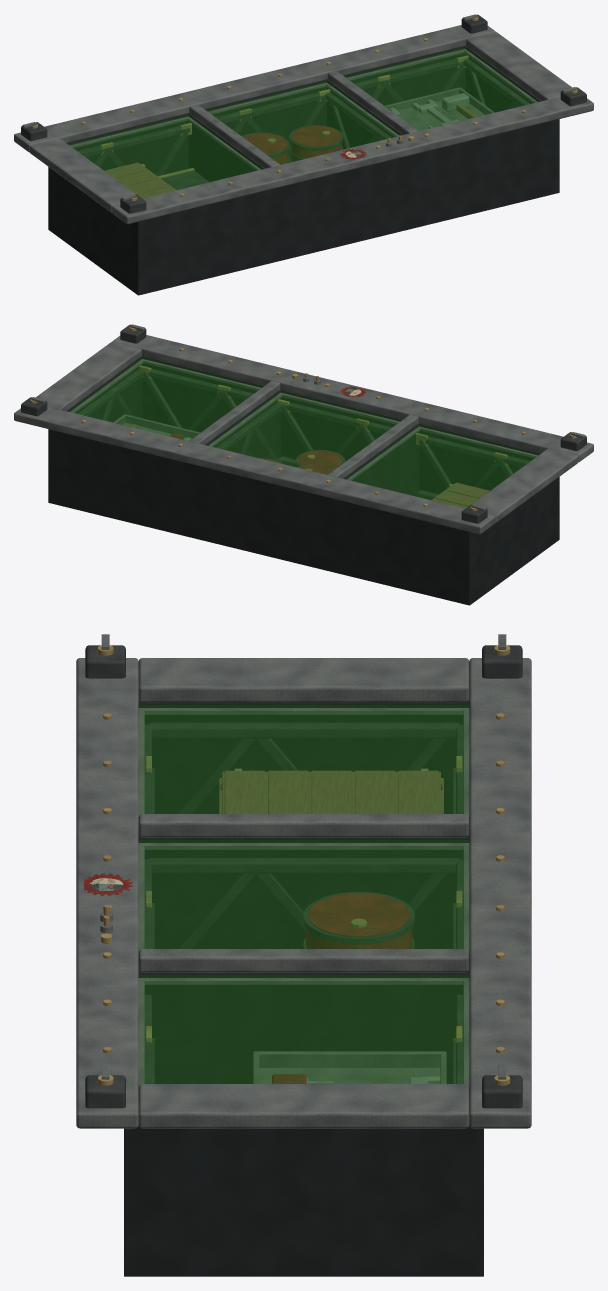
File: basic-space-cargo-v01.glb
3 renders of one model, top to bottom at view 1: azimuth 30°, elevation 25°; view 2: azimuth 150°, elevation 25°; view 3: azimuth 270°, elevation 25°, orthographic. The views are drawn at different scales.
Parts seen in each view (by area): view 1: Cargo | front opaque well baffle, Cargo | front grade-bearing deck rail, Cargo | rear grade-bearing deck rail, Cargo | green transmitting viewport 0, Cargo | green transmitting viewport 1, Cargo | green transmitting viewport 2, Cargo | rear opaque well baffle, Cargo | opaque compartment wall 0, Cargo | sealed suspended well floor, Cargo | left grade-bearing end rail, Cargo | right grade-bearing end rail, Cargo | opaque compartment wall 1 (+23 smaller); view 2: Cargo | rear opaque well baffle, Cargo | front opaque well baffle, Cargo | rear grade-bearing deck rail, Cargo | front grade-bearing deck rail, Cargo | green transmitting viewport 0, Cargo | green transmitting viewport 1, Cargo | green transmitting viewport 2, Cargo | opaque compartment wall 0, Cargo | sealed suspended well floor, Cargo | opaque compartment wall 1, Cargo | left grade-bearing end rail, Cargo | right grade-bearing end rail (+20 smaller); view 3: Cargo | opaque compartment wall 3, Cargo | green transmitting viewport 0, Cargo | green transmitting viewport 1, Cargo | green transmitting viewport 2, Cargo | rear grade-bearing deck rail, Cargo | front grade-bearing deck rail, Cargo | opaque compartment wall 2, Cargo | opaque compartment wall 1, Cargo | opaque compartment wall 0, Cargo | left grade-bearing end rail, Cargo | right grade-bearing end rail, Cargo | pane mullion 0 (+26 smaller).
Part boxes in pixels (bbox=[...]): Cargo | front opaque well baffle: bbox=[134, 121, 551, 289]; Cargo | front grade-bearing deck rail: bbox=[112, 96, 593, 224]; Cargo | rear grade-bearing deck rail: bbox=[14, 25, 495, 152]; Cargo | green transmitting viewport 0: bbox=[68, 115, 262, 198]; Cargo | green transmitting viewport 1: bbox=[207, 81, 400, 164]; Cargo | green transmitting viewport 2: bbox=[345, 47, 538, 130]; Cargo | rear opaque well baffle: bbox=[48, 46, 465, 225]; Cargo | opaque compartment wall 0: bbox=[51, 169, 145, 289]; Cargo | sealed suspended well floor: bbox=[48, 187, 559, 295]; Cargo | left grade-bearing end rail: bbox=[29, 138, 136, 212]; Cargo | right grade-bearing end rail: bbox=[466, 32, 571, 101]; Cargo | opaque compartment wall 1: bbox=[188, 113, 284, 255]; Cargo | rear opaque well baffle: bbox=[48, 429, 473, 598]; Cargo | front opaque well baffle: bbox=[142, 356, 559, 535]; Cargo | rear grade-bearing deck rail: bbox=[14, 406, 495, 534]; Cargo | front grade-bearing deck rail: bbox=[112, 335, 593, 462]; Cargo | green transmitting viewport 0: bbox=[345, 425, 539, 508]; Cargo | green transmitting viewport 1: bbox=[207, 391, 400, 474]; Cargo | green transmitting viewport 2: bbox=[69, 357, 262, 440]; Cargo | opaque compartment wall 0: bbox=[462, 479, 556, 599]; Cargo | sealed suspended well floor: bbox=[48, 496, 559, 605]; Cargo | opaque compartment wall 1: bbox=[323, 423, 419, 565]; Cargo | left grade-bearing end rail: bbox=[471, 448, 578, 522]; Cargo | right grade-bearing end rail: bbox=[36, 342, 141, 411]; Cargo | opaque compartment wall 3: bbox=[125, 1125, 483, 1263]; Cargo | green transmitting viewport 0: bbox=[139, 704, 468, 815]; Cargo | green transmitting viewport 1: bbox=[139, 839, 468, 950]; Cargo | green transmitting viewport 2: bbox=[139, 974, 468, 1085]; Cargo | rear grade-bearing deck rail: bbox=[469, 658, 531, 1128]; Cargo | front grade-bearing deck rail: bbox=[76, 658, 138, 1128]; Cargo | opaque compartment wall 2: bbox=[138, 969, 469, 1083]; Cargo | opaque compartment wall 1: bbox=[138, 834, 469, 948]; Cargo | opaque compartment wall 0: bbox=[138, 699, 469, 813]; Cargo | left grade-bearing end rail: bbox=[138, 658, 469, 702]; Cargo | right grade-bearing end rail: bbox=[138, 1084, 469, 1128]; Cargo | pane mullion 0: bbox=[138, 814, 469, 837].
Size of the model in its own units: 5.88 by 1.27 by 2.48.
16 materials, 15 textured.
